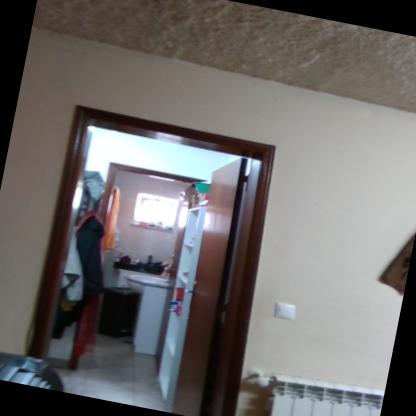open: (14, 82, 294, 414)
